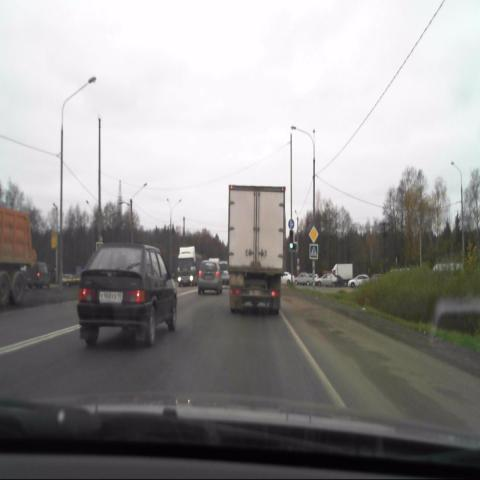2_1: (308, 225, 318, 242)
4_1_4: (287, 219, 294, 231)
5_19_1: (308, 243, 318, 260)
